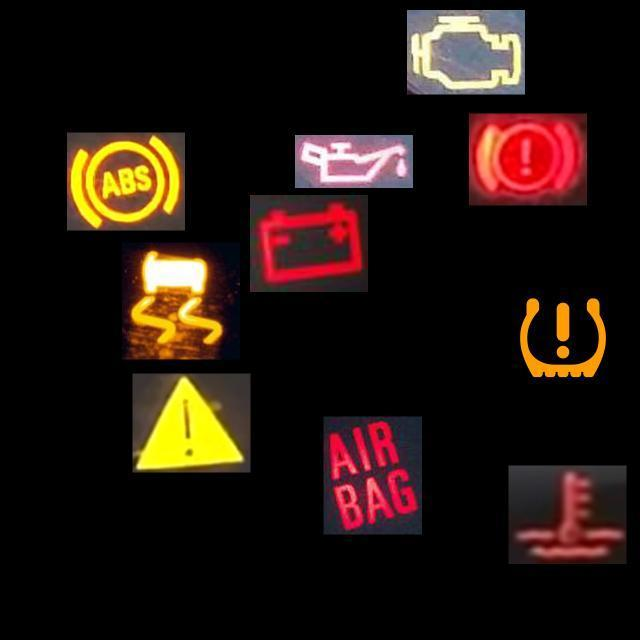Central Warning lamp: (132, 373, 250, 472)
Engine cooling system: (508, 466, 626, 564)
